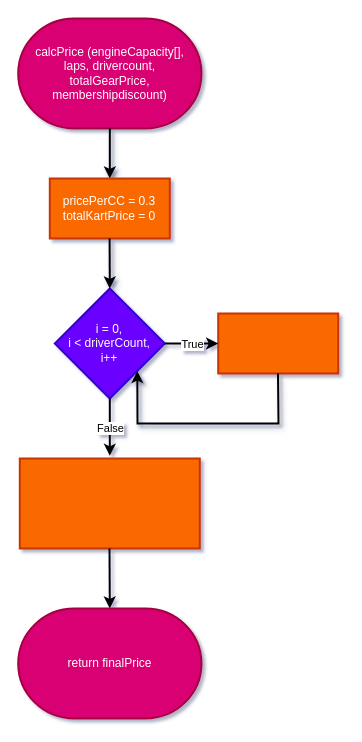
The diagram is 362 pixels wide and 742 high, and some of its shapes have lost their labels. Here are the shapes that lost their labels. From the top down, the centre of each, then its label:
(x=278, y=343): totalKartPrice += (engineCapacity[i] * pricePerCC) * laps
(x=109, y=503): finalPrice = (totaKartPrice + totalGearPrice) * (1 - membershipDiscount)
